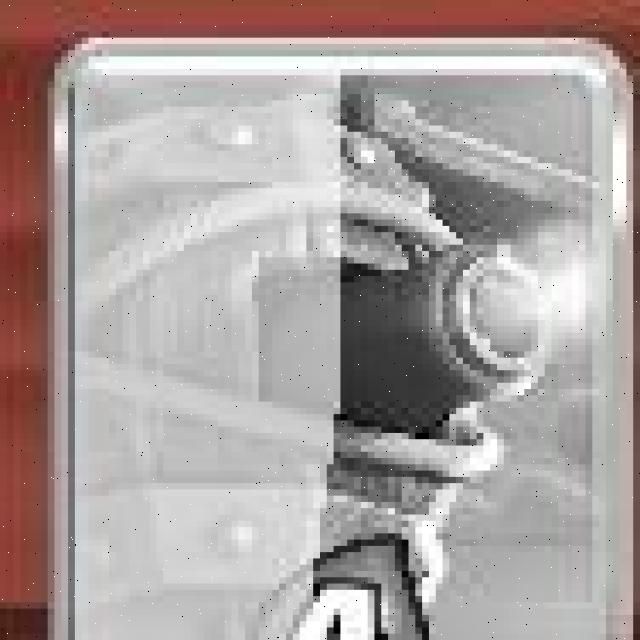Flying_Machine: (47, 33, 635, 640)
